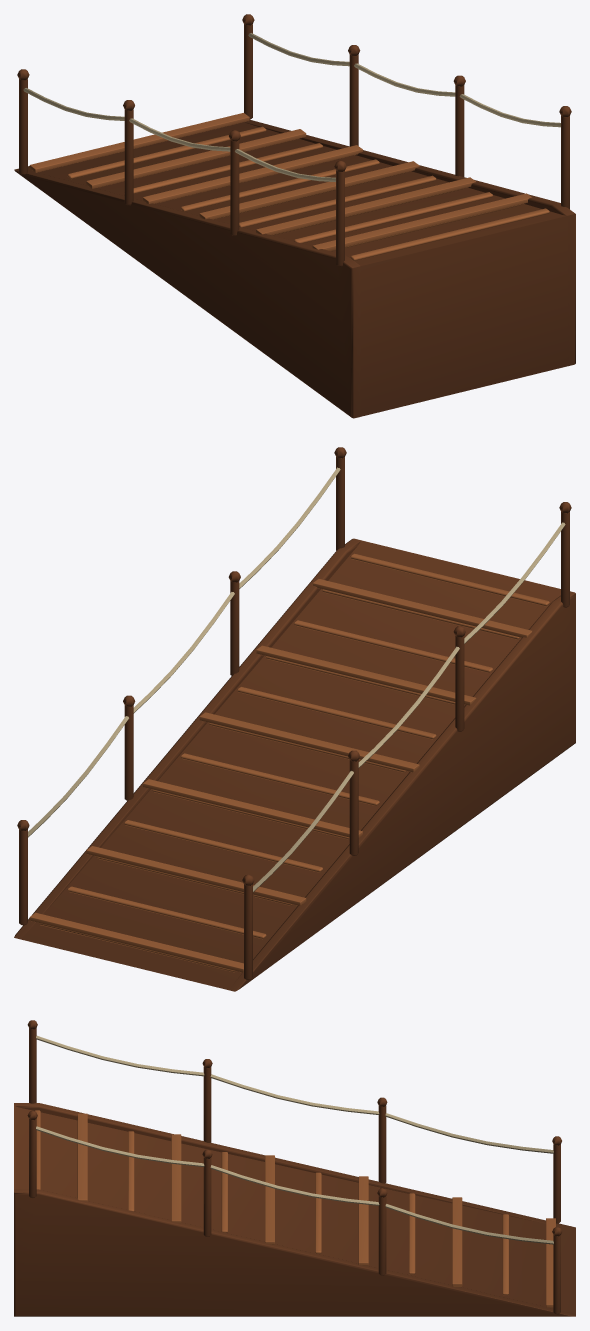
Rendered from SM_Tank_IslandRamp.fbx.
3 renders of one model, top to bottom at view 1: azimuth 30°, elevation 25°; view 2: azimuth 150°, elevation 25°; view 3: azimuth 270°, elevation 25°, orthographic. The views are drawn at different scales.
Visible parts, largest first — view 1: SM_Tank_IslandRamp; view 2: SM_Tank_IslandRamp; view 3: SM_Tank_IslandRamp.
Part boxes in pixels (x1,y1,x2,y2): SM_Tank_IslandRamp: [14, 14, 575, 418]; SM_Tank_IslandRamp: [14, 447, 575, 991]; SM_Tank_IslandRamp: [14, 1020, 575, 1316].
Bounding box in the file's own units: 179 × 182 × 450.
